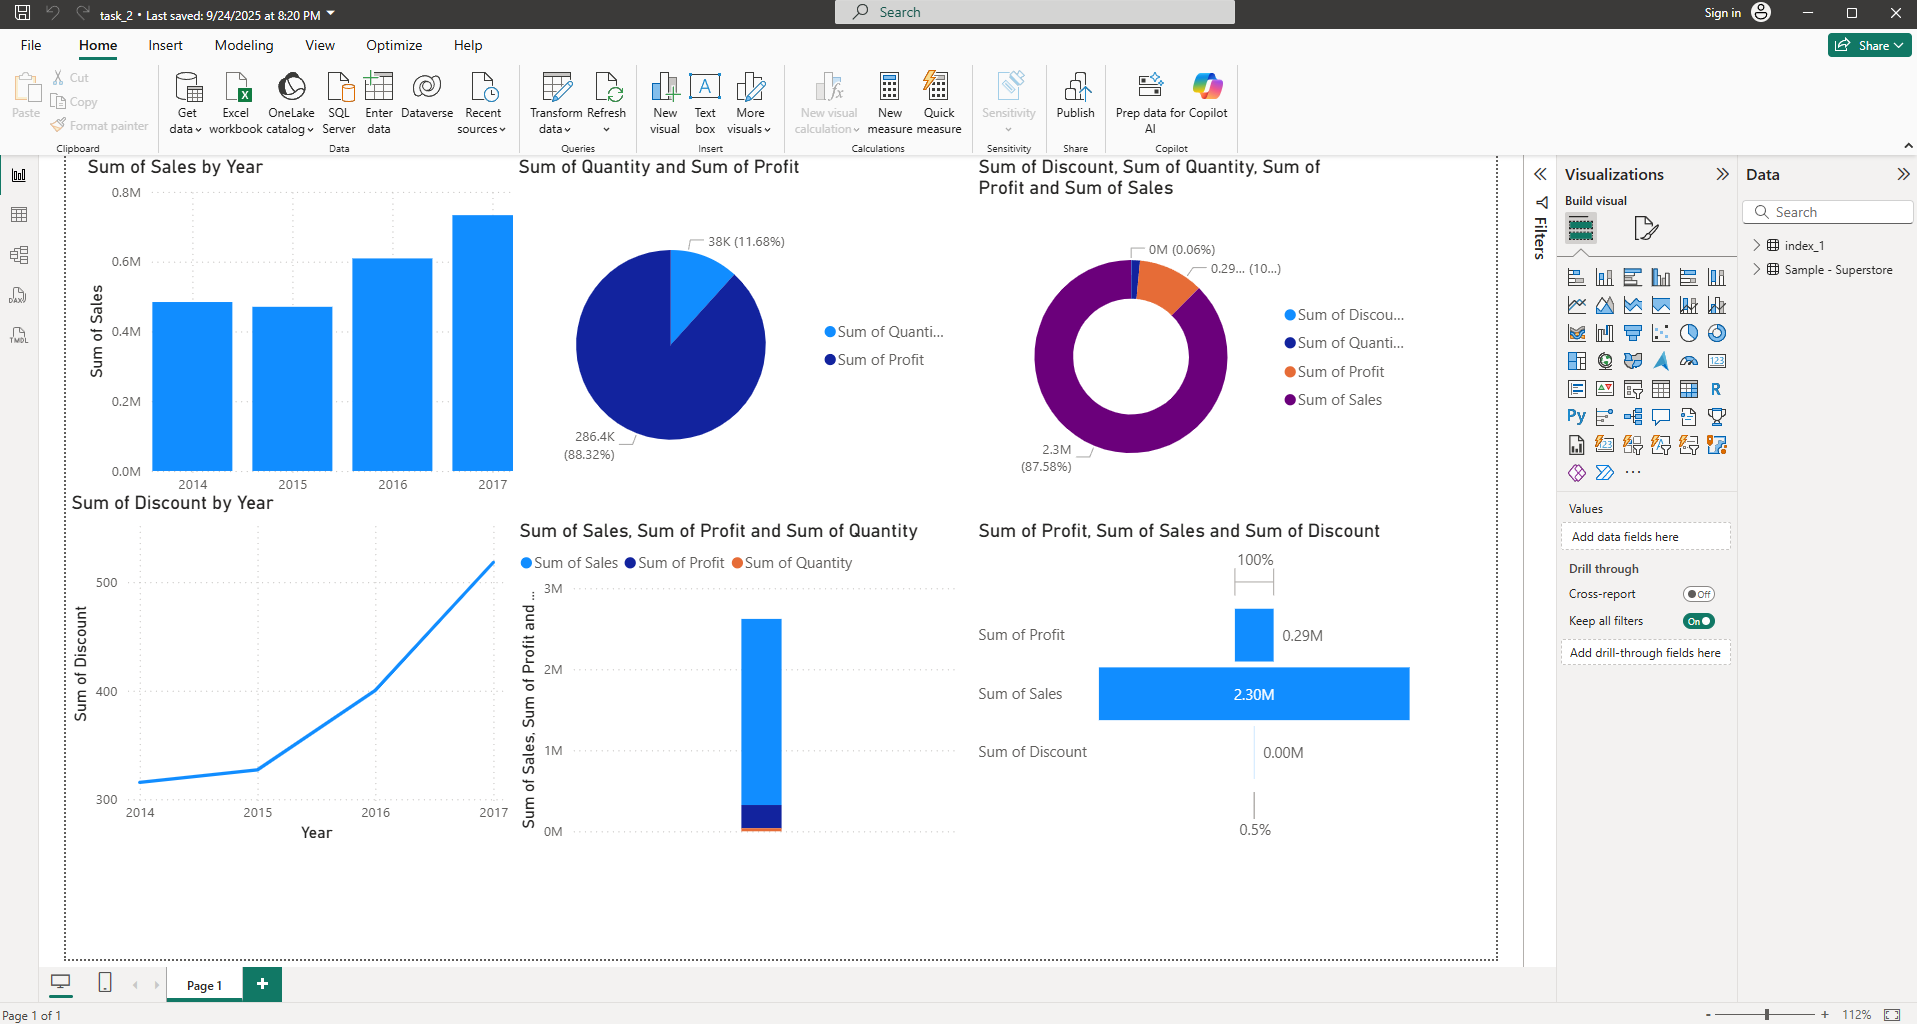

The dashboard page shown, as its layout file describes it:
{"tool":"powerbi","page":{"name":"Page 1","canvas":[1280,720],"ordinal":0},"visuals":[{"type":"lineStackedColumnComboChart","fields":{"Category":["Sample - Superstore.Order Date.Variation.Date Hierarchy.Year","Sample - Superstore.Order Date.Variation.Date Hierarchy.Quarter","Sample - Superstore.Order Date.Variation.Date Hierarchy.Month","Sample - Superstore.Order Date.Variation.Date Hierarchy.Day"],"Y":["Sum(Sample - Superstore.Sales)"]},"box":[0,0,408.4,326],"z":0},{"type":"lineChart","fields":{"Category":["Sample - Superstore.Order Date.Variation.Date Hierarchy.Year","Sample - Superstore.Order Date.Variation.Date Hierarchy.Quarter","Sample - Superstore.Order Date.Variation.Date Hierarchy.Month","Sample - Superstore.Order Date.Variation.Date Hierarchy.Day"],"Y":["Sum(Sample - Superstore.Discount)"]},"box":[0,326,400.3,318.8],"z":1000},{"type":"pieChart","fields":{"Y":["Sum(Sample - Superstore.Quantity)","Sum(Sample - Superstore.Profit)"]},"box":[401.2,0,401.2,318.8],"z":2000},{"type":"ribbonChart","fields":{"Y":["Sum(Sample - Superstore.Sales)","Sum(Sample - Superstore.Profit)","Sum(Sample - Superstore.Quantity)"]},"box":[401.2,318.8,401.2,300.9],"z":3000},{"type":"donutChart","fields":{"Y":["Sum(Sample - Superstore.Discount)","Sum(Sample - Superstore.Quantity)","Sum(Sample - Superstore.Profit)","Sum(Sample - Superstore.Sales)"]},"box":[812,0,401,319],"z":4000},{"type":"funnel","fields":{"Y":["Sum(Sample - Superstore.Profit)","Sum(Sample - Superstore.Sales)","Sum(Sample - Superstore.Discount)"]},"box":[802.4,318.8,411,300.9],"z":5000}]}

Visuals, with their boxes on the page's 1280x720 design canvas (x1, y1, x2, y2). These are canvas units, not pixel positions in the 1917x1024 screenshot, which may show the page scaled, cropped or inside an application window:
lineStackedColumnComboChart - Sample - Superstore.Order Date.Variation.Date Hierarchy.Year x Sample - Superstore.Order Date.Variation.Date Hierarchy.Quarter: [left=0, top=0, right=408, bottom=326]
lineChart - Sample - Superstore.Order Date.Variation.Date Hierarchy.Year x Sample - Superstore.Order Date.Variation.Date Hierarchy.Quarter: [left=0, top=326, right=400, bottom=645]
pieChart - Sum(Sample - Superstore.Quantity) x Sum(Sample - Superstore.Profit): [left=401, top=0, right=802, bottom=319]
ribbonChart - Sum(Sample - Superstore.Sales) x Sum(Sample - Superstore.Profit): [left=401, top=319, right=802, bottom=620]
donutChart - Sum(Sample - Superstore.Discount) x Sum(Sample - Superstore.Quantity): [left=812, top=0, right=1213, bottom=319]
funnel - Sum(Sample - Superstore.Profit) x Sum(Sample - Superstore.Sales): [left=802, top=319, right=1213, bottom=620]
